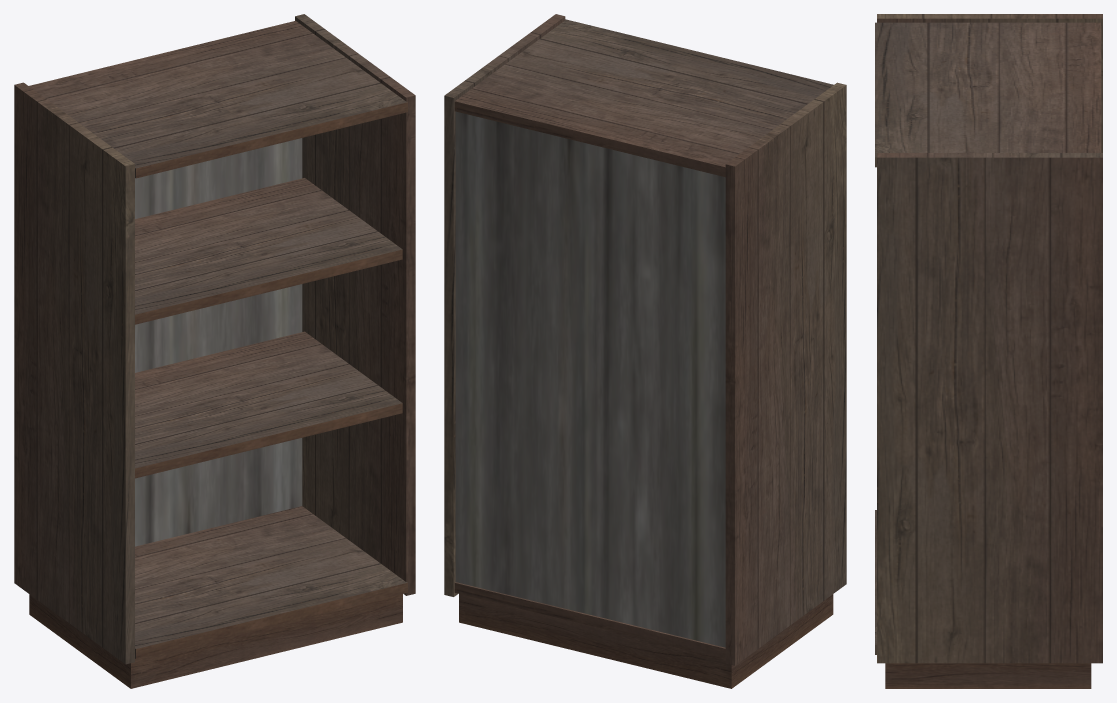
Rendered from jov_shelf01a.fbx.
The picture shows the model from 3 angles, left to right: view 1: azimuth 30°, elevation 25°; view 2: azimuth 150°, elevation 25°; view 3: azimuth 270°, elevation 25°; orthographic projection.
Parts seen in each view (by area): view 1: jov_shelf01a; view 2: jov_shelf01a; view 3: jov_shelf01a.
Boxes of the visible parts, x1,y1,x2,y2 form: jov_shelf01a: (14,14,415,688); jov_shelf01a: (444,14,846,688); jov_shelf01a: (875,14,1102,688).
Bounding box in the file's own units: 76.05 × 132 × 50.97.
